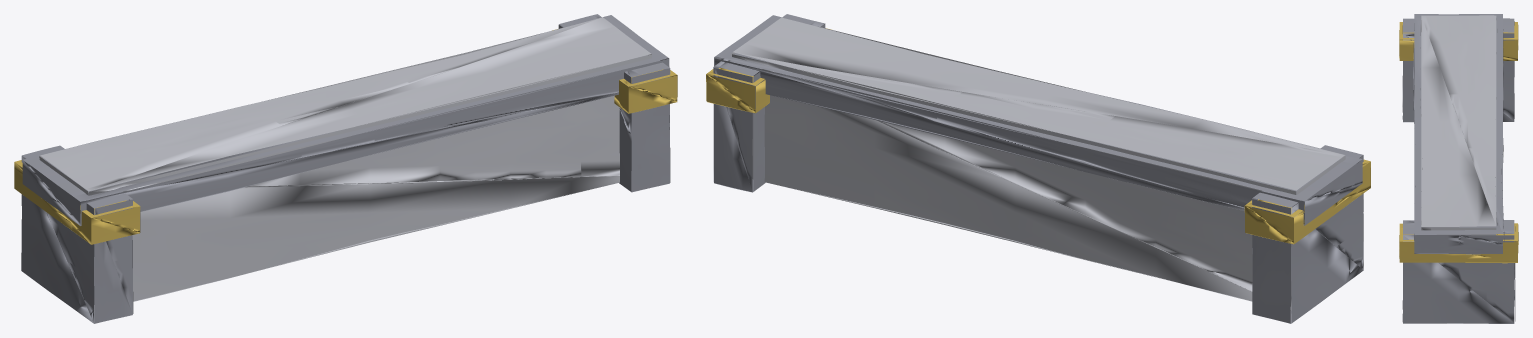
File: platform.glb
3 renders of one model, left to right at view 1: azimuth 30°, elevation 25°; view 2: azimuth 150°, elevation 25°; view 3: azimuth 270°, elevation 25°, orthographic. The views are drawn at different scales.
Parts seen in each view (by area): view 1: PangPlatformBody; view 2: PangPlatformBody; view 3: PangPlatformBody.
Boxes of the visible parts, x1,y1,x2,y2 form: PangPlatformBody: (14, 14, 677, 323); PangPlatformBody: (706, 14, 1370, 323); PangPlatformBody: (1399, 14, 1518, 323).
Bounding box in the file's own units: 4.61 × 0.9276 × 1.05.
